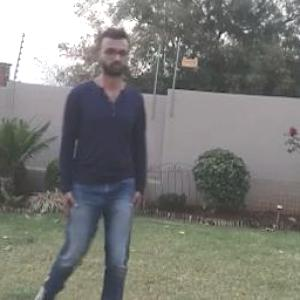follow: (61, 29, 153, 299)
